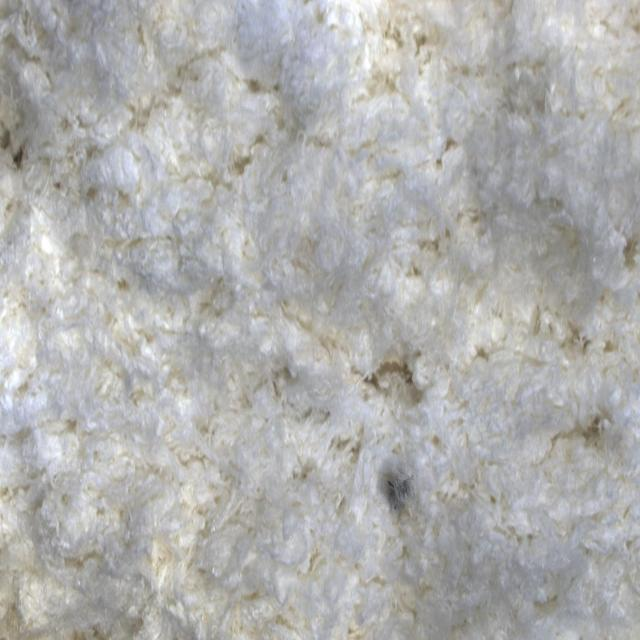dust: (350, 443, 433, 528)
